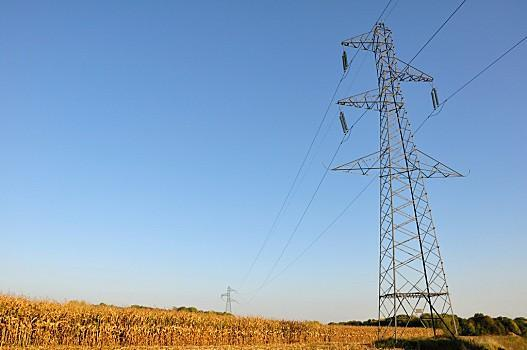power_tower: (334, 14, 475, 340)
